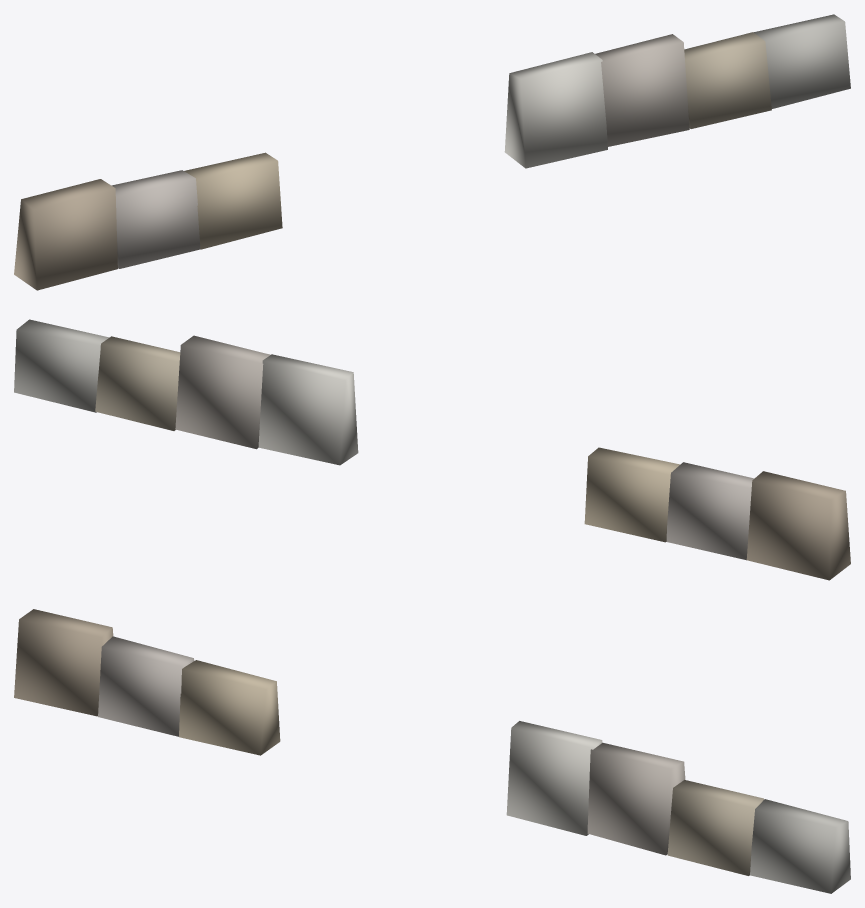
Rendered from farm_16_22_far.glb.
3 renders of one model, top to bottom at view 1: azimuth 30°, elevation 25°; view 2: azimuth 150°, elevation 25°; view 3: azimuth 330°, elevation 25°, orthographic.
Visible parts, largest first — view 1: geometry_0; view 2: geometry_0; view 3: geometry_0.
Boxes of the visible parts, x1,y1,x2,y2 form: geometry_0: (14,14,850,290); geometry_0: (14,319,850,580); geometry_0: (14,609,850,893).
Bounding box in the file's own units: 14.56 × 1.49 × 0.9003.
